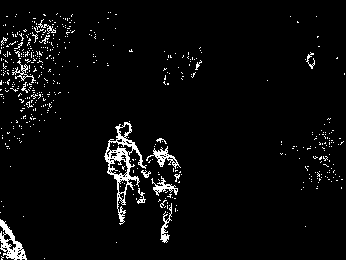person: (104, 119, 145, 226), (143, 136, 178, 244)
